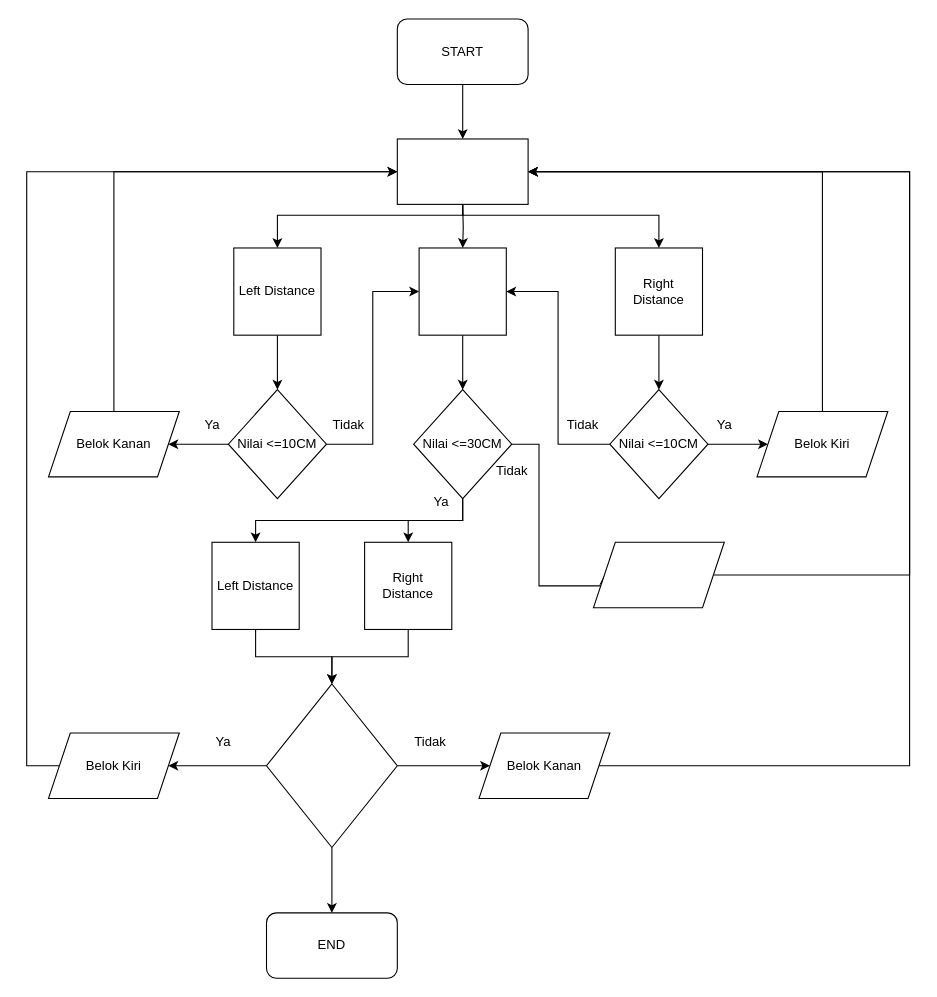
The diagram is 937 pixels wide and 997 high, and some of its shapes have lost their labels. The shapes that lost their labels are listed below. From the top down, each one's centre as x and y in pixels, then its label:
point 462,171: Baca Sensor
point 462,291: Center Distance
point 658,574: Maju
point 331,765: IF Left Distance > Right Distance
